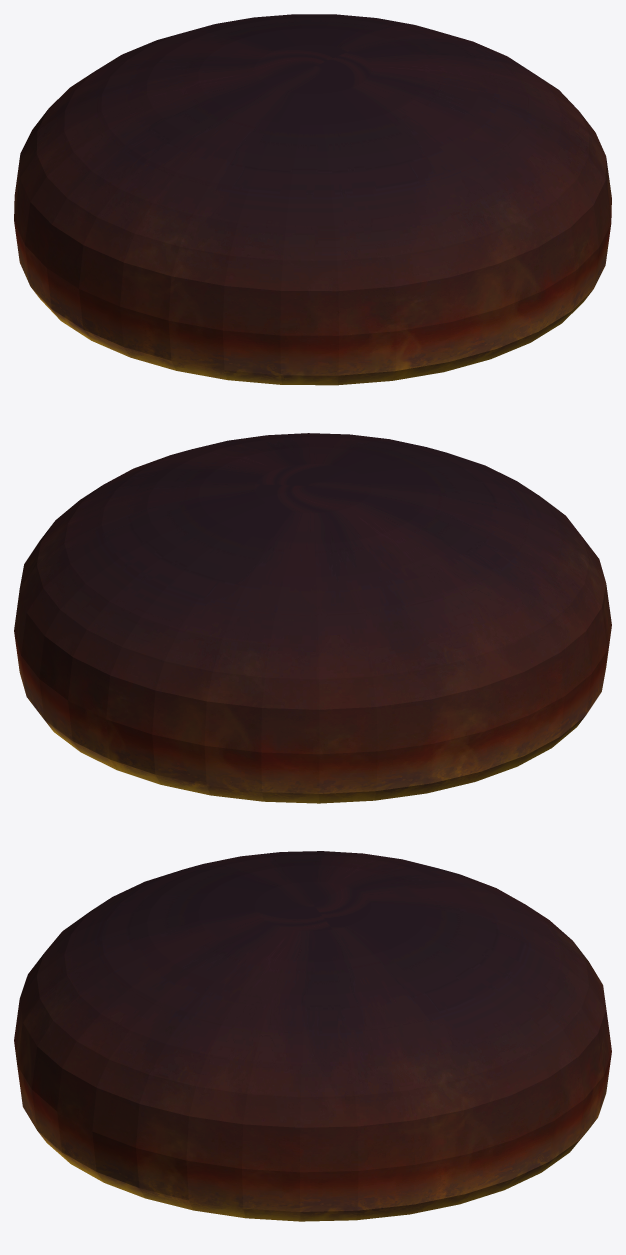
File: crypt_sky.fbx
3 views of the same model, one above another, from view 1: azimuth 30°, elevation 25°; view 2: azimuth 150°, elevation 25°; view 3: azimuth 270°, elevation 25° (orthographic).
Parts seen in each view (by area): view 1: obj0; view 2: obj0; view 3: obj0.
Boxes of the visible parts, x1,y1,x2,y2 form: obj0: (14, 14, 611, 385); obj0: (14, 433, 611, 803); obj0: (14, 851, 611, 1221).
Bounding box in the file's own units: 24.12 × 12.63 × 24.12.
